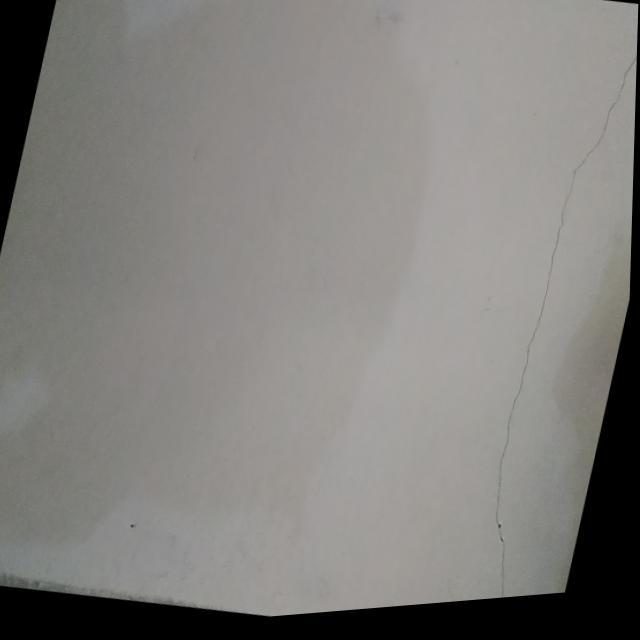Crack: (490, 191, 563, 584), (565, 52, 632, 201)
